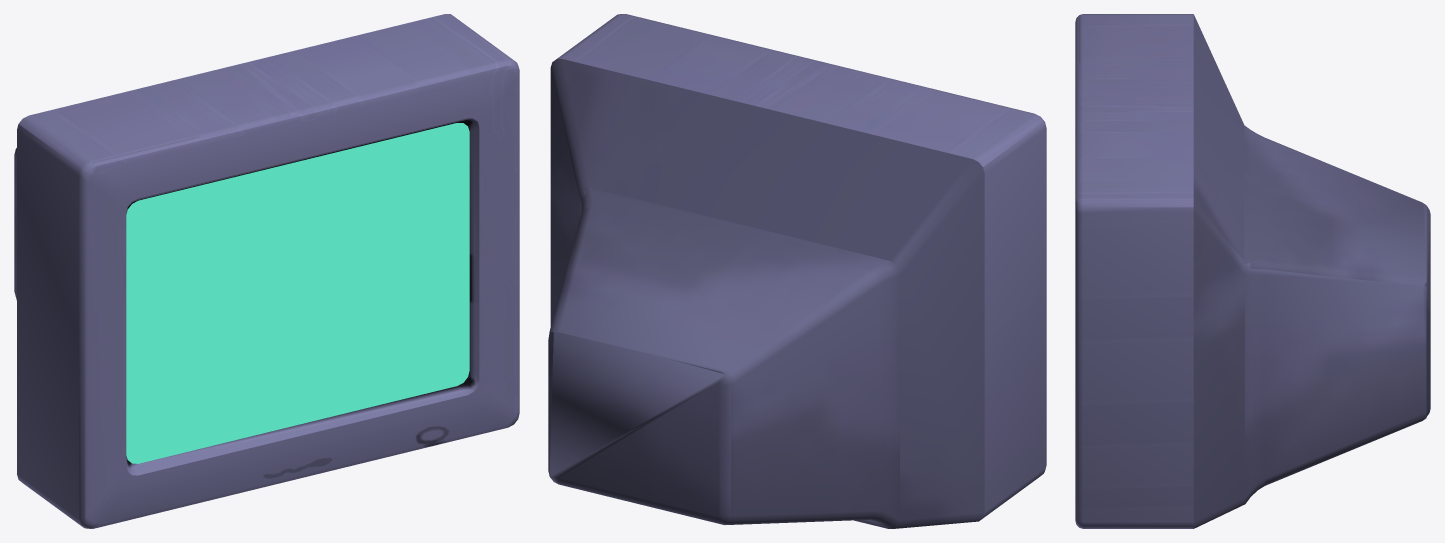
File: computer.glb
3 views of the same model, side by side, from view 1: azimuth 30°, elevation 25°; view 2: azimuth 150°, elevation 25°; view 3: azimuth 270°, elevation 25° (orthographic). The views are drawn at different scales.
Parts seen in each view (by area): view 1: Screen C.001_102; view 2: Screen C.001_102; view 3: Screen C.001_102.
Boxes of the visible parts, bbox=[...] form: Screen C.001_102: bbox=[14, 14, 519, 528]; Screen C.001_102: bbox=[548, 14, 1046, 528]; Screen C.001_102: bbox=[1075, 14, 1430, 528].
Size of the model in its own units: 1.54 by 1.23 by 1.2.
2 materials, 1 textured.
